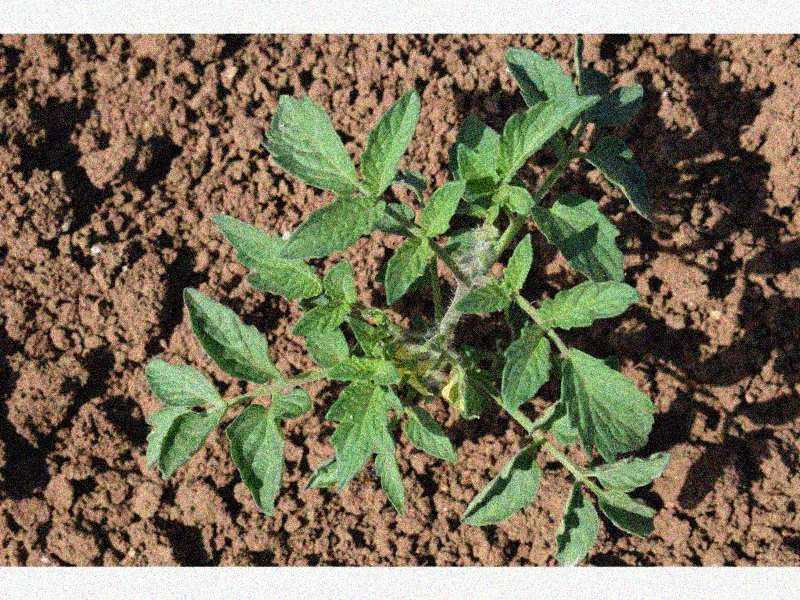tomato: (142, 36, 666, 563)
